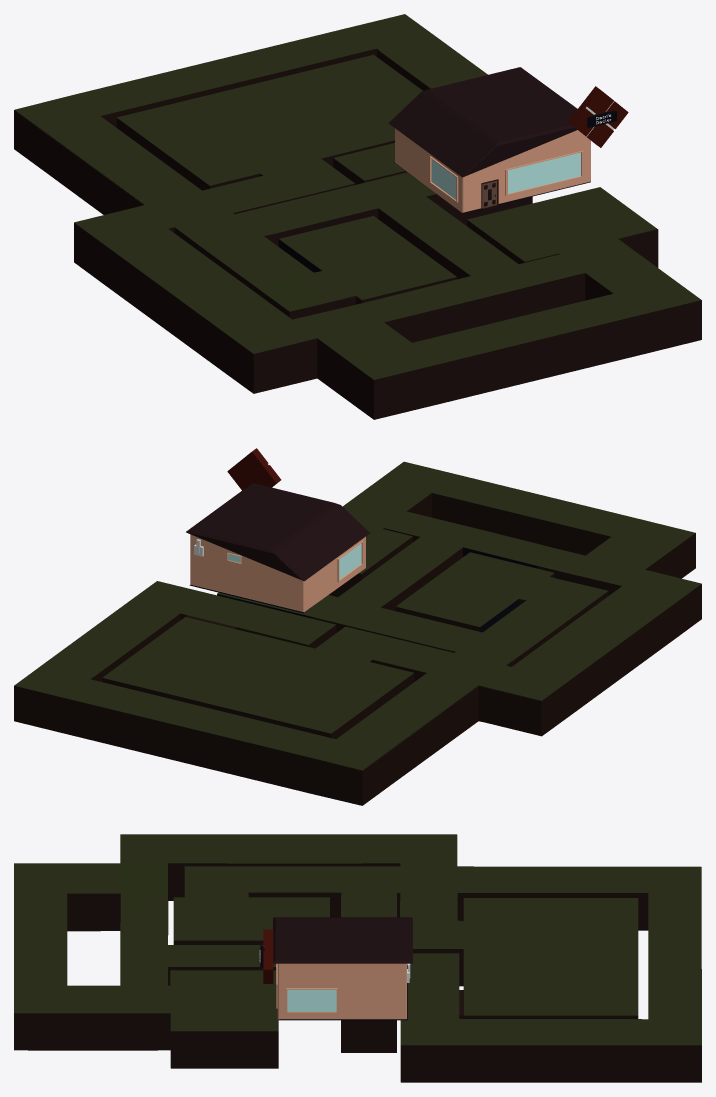
The model's file is Dealership concept2.fbx.
3 views of the same model, one above another, from view 1: azimuth 30°, elevation 25°; view 2: azimuth 150°, elevation 25°; view 3: azimuth 270°, elevation 25° (orthographic). The views are drawn at different scales.
Parts seen in each view (by area): view 1: Plane, roof guide, Cube.001; view 2: Plane, roof guide, Cube.001; view 3: Plane, roof guide, Cube.001.
Boxes of the visible parts, x1=… form: Plane: x1=14, y1=14, x2=701, y2=419; roof guide: x1=388, y1=67, x2=577, y2=177; Cube.001: x1=568, y1=86, x2=628, y2=147; Plane: x1=14, y1=461, x2=701, y2=805; roof guide: x1=186, y1=483, x2=369, y2=581; Cube.001: x1=227, y1=448, x2=281, y2=490; Plane: x1=14, y1=834, x2=701, y2=1082; roof guide: x1=273, y1=917, x2=412, y2=963; Cube.001: x1=260, y1=929, x2=273, y2=983.
Bounding box in the file's own units: 4514 × 1353 × 6216.
